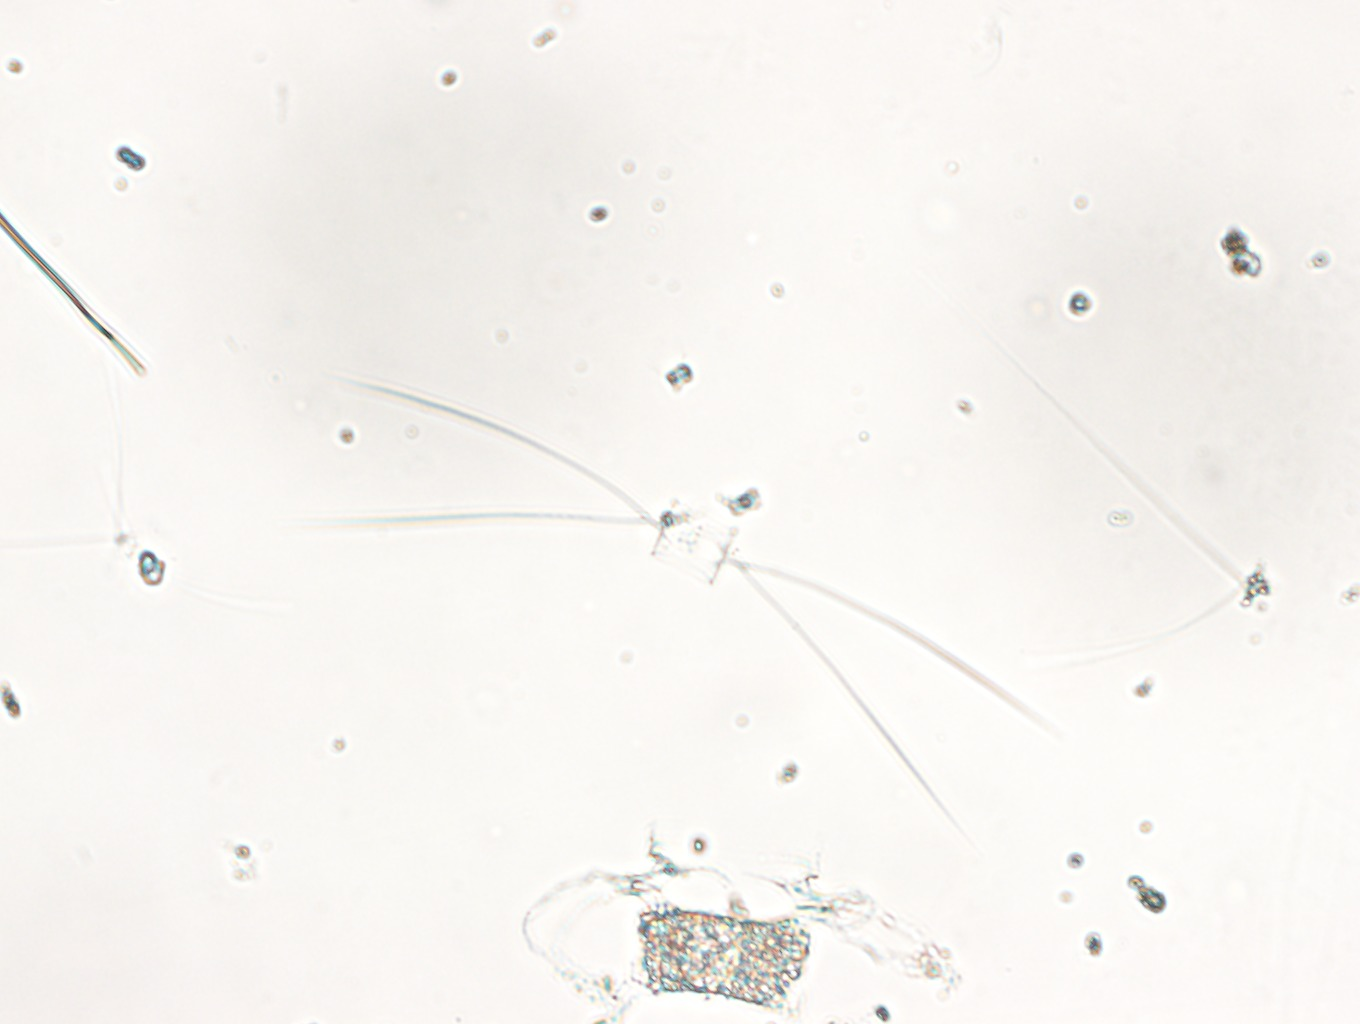chaetoceros: (347, 365, 1045, 805)
